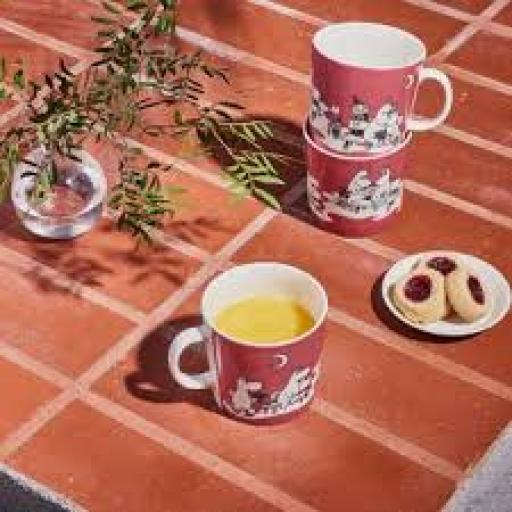red mug: (169, 262, 327, 423), (310, 23, 452, 154), (303, 121, 411, 236)
